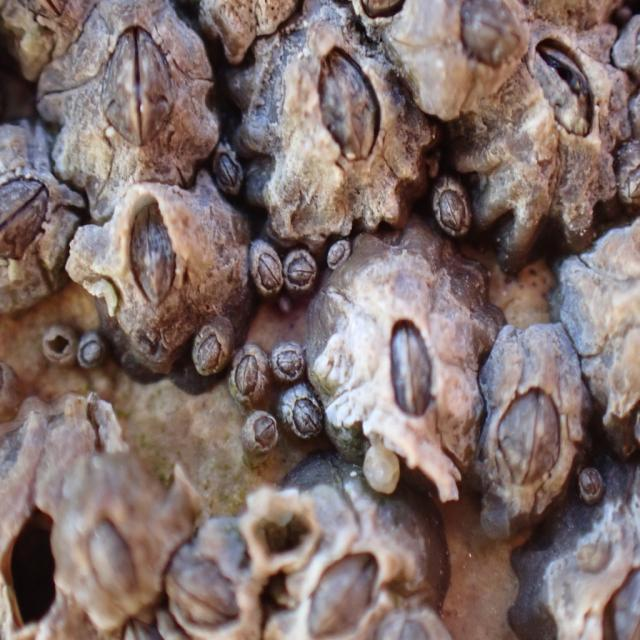barnacles: (320, 235, 482, 500), (62, 181, 247, 399), (256, 6, 424, 240), (37, 0, 212, 190), (479, 29, 625, 240), (474, 327, 583, 538), (44, 456, 156, 638), (386, 0, 537, 123), (154, 530, 260, 638), (285, 541, 401, 639), (428, 168, 472, 255), (214, 134, 250, 213), (243, 237, 287, 298), (227, 347, 271, 406), (283, 392, 326, 450), (187, 326, 227, 384), (242, 408, 279, 466), (272, 334, 306, 384), (285, 251, 316, 298), (74, 335, 103, 376)
